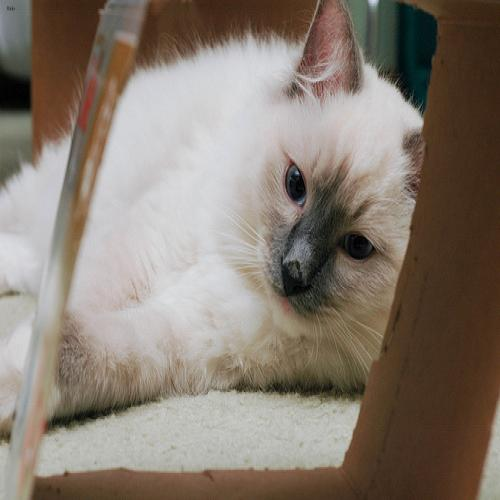ragdoll: (240, 1, 460, 362)
